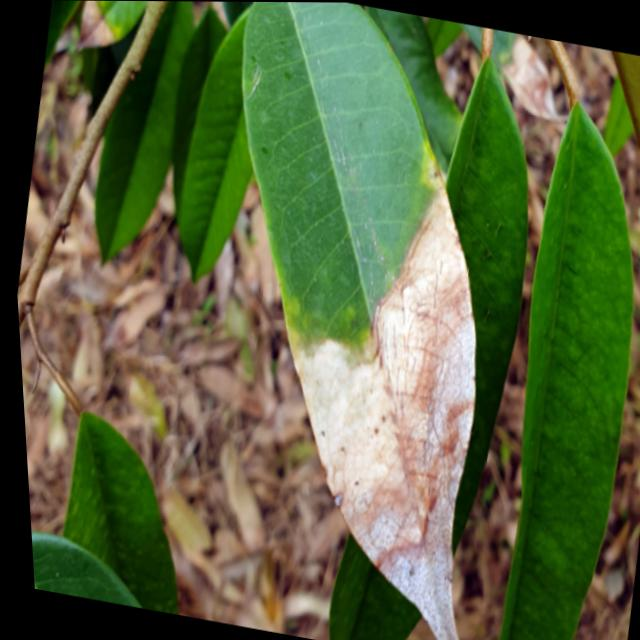Leaf Blight: (244, 218, 523, 640)
